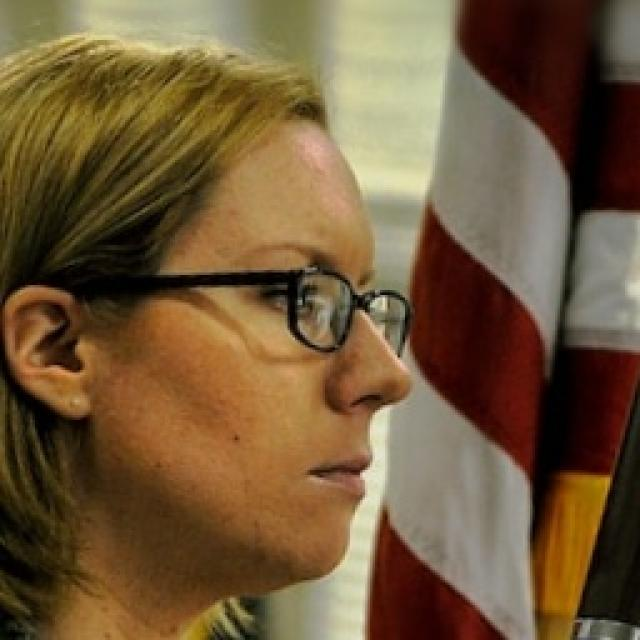glasses: (78, 255, 414, 374)
